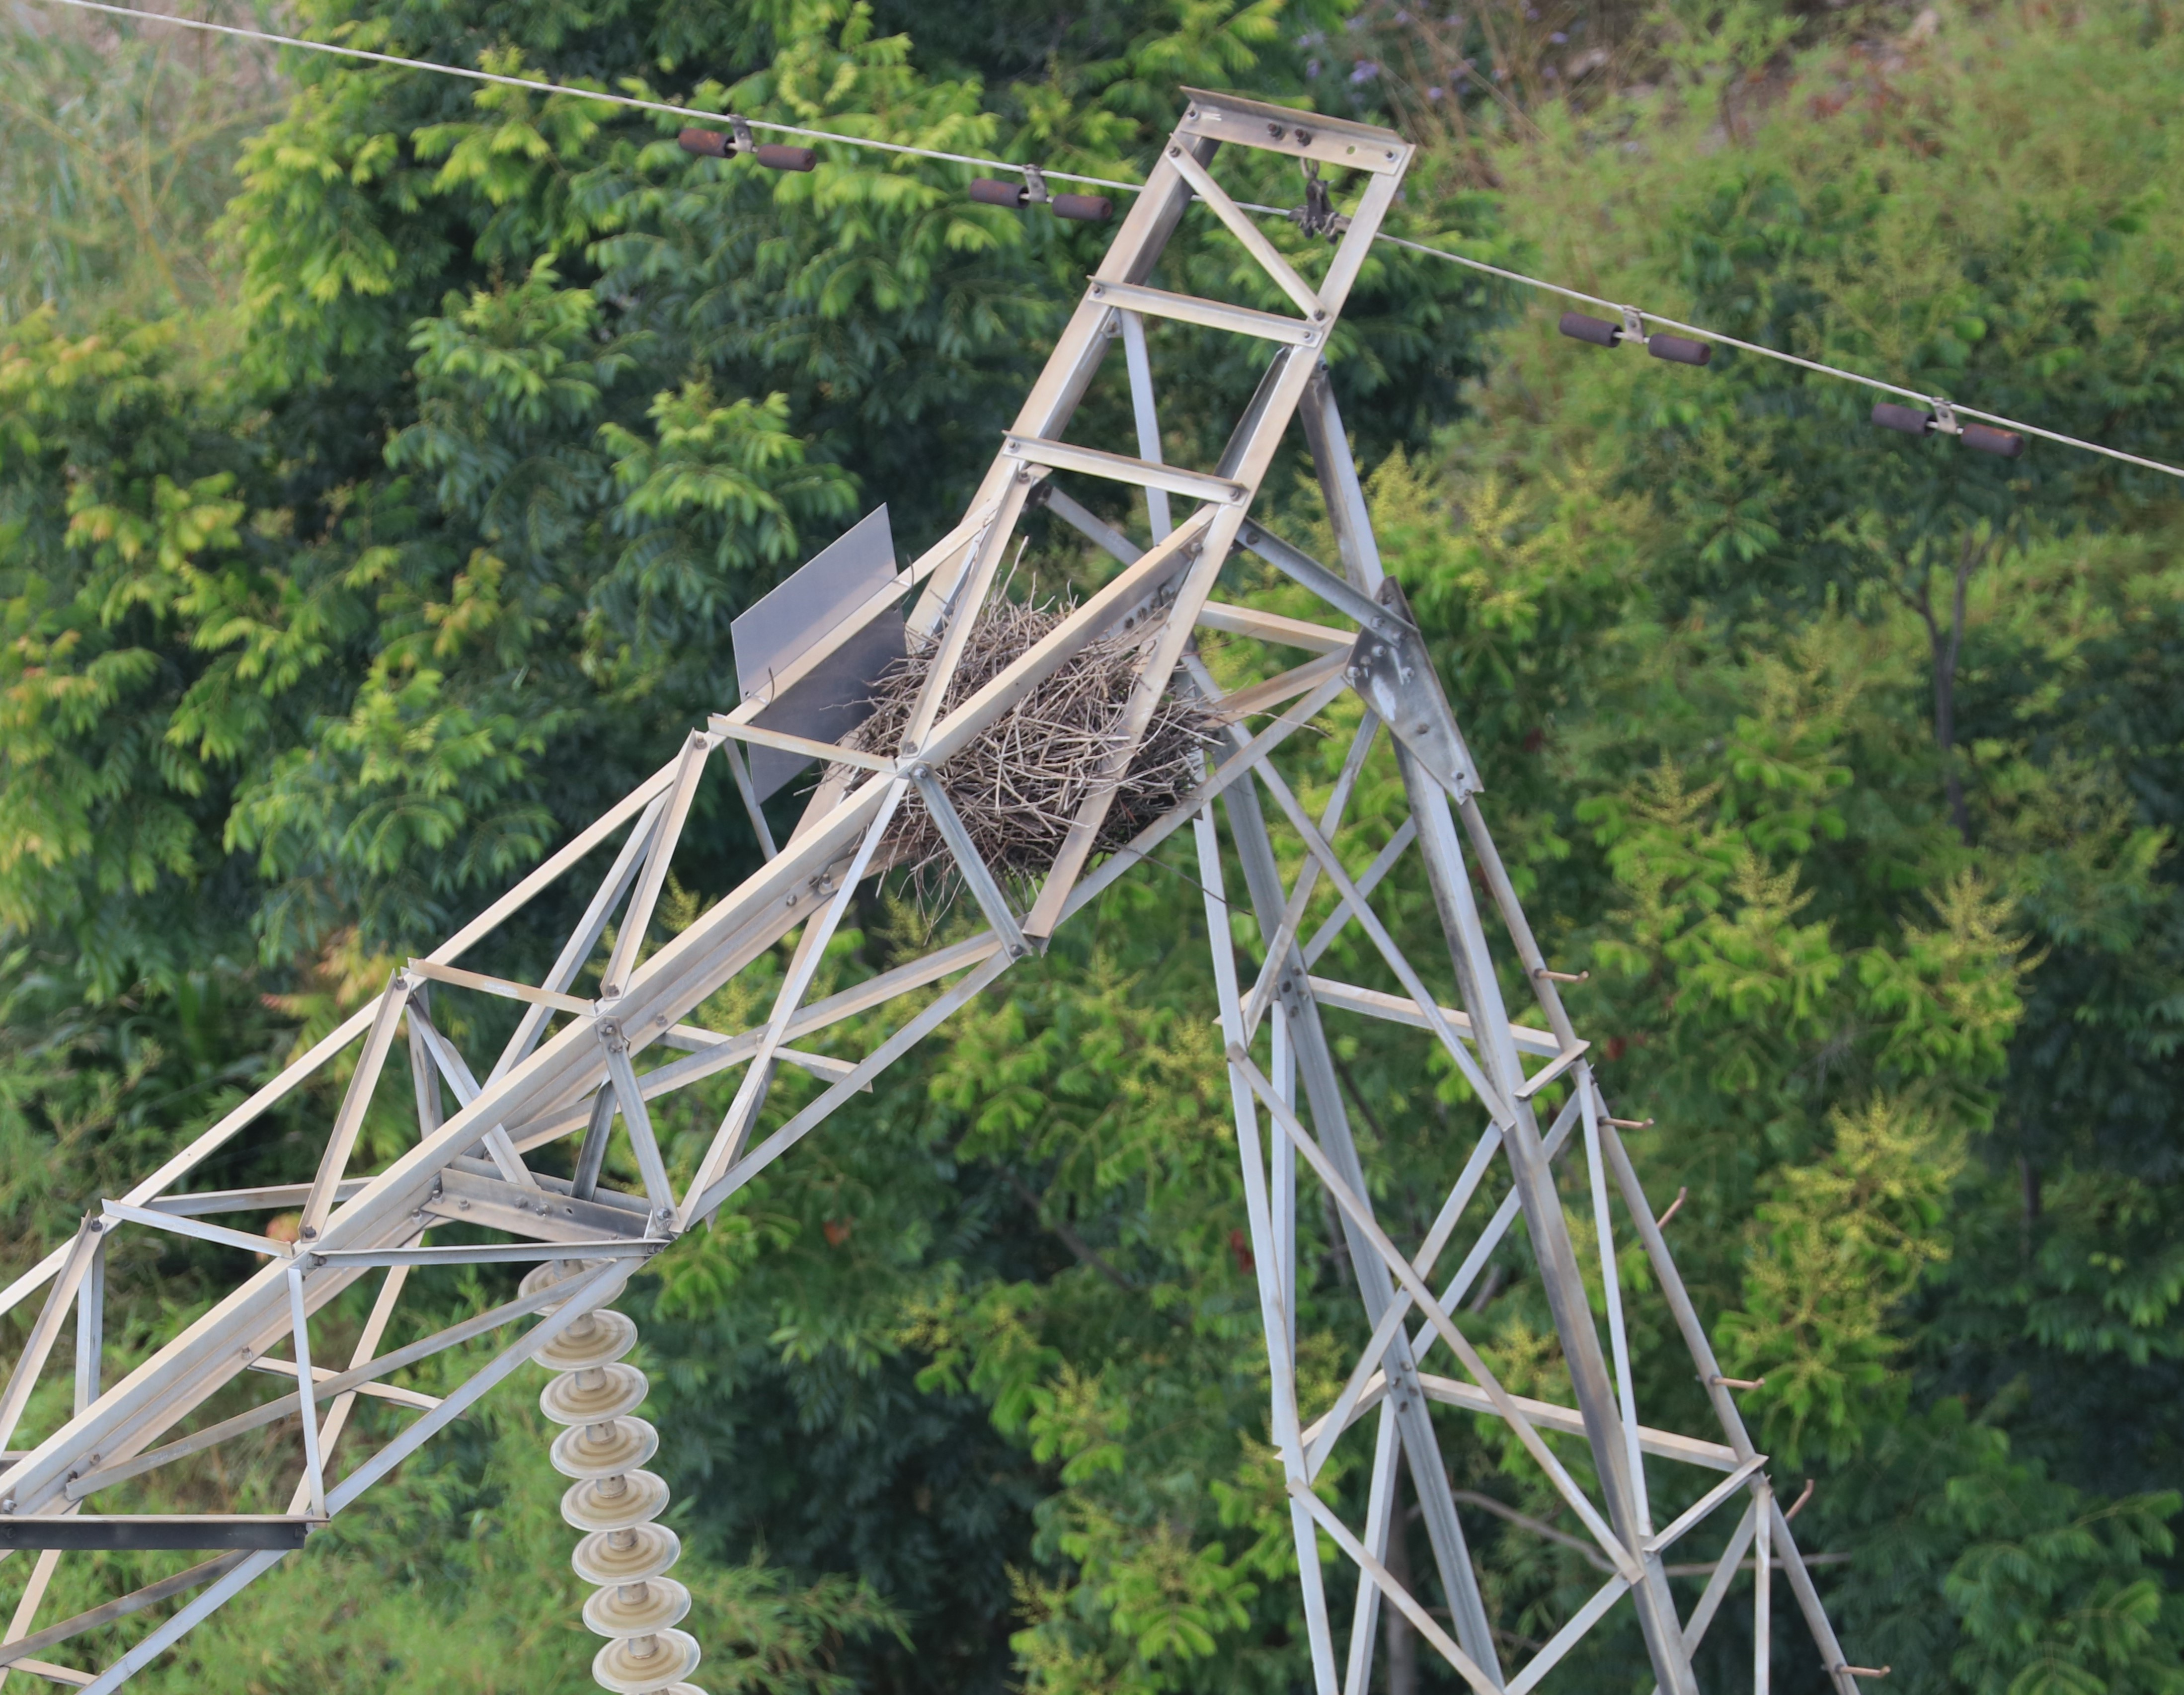niaowo: (835, 582, 1223, 894)
